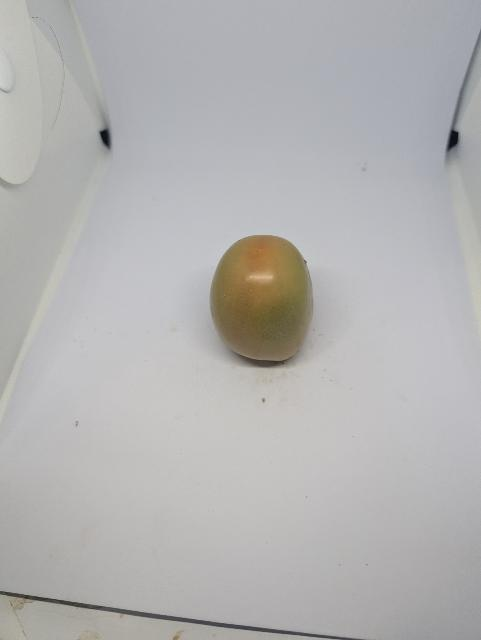breaker: (186, 221, 334, 373)
